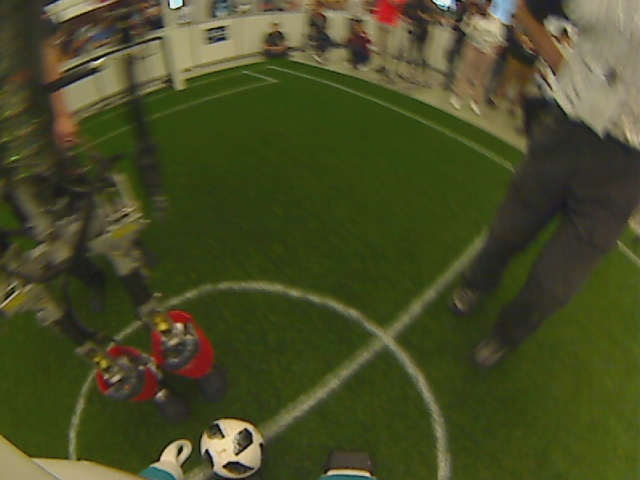ball: (197, 414, 268, 479)
